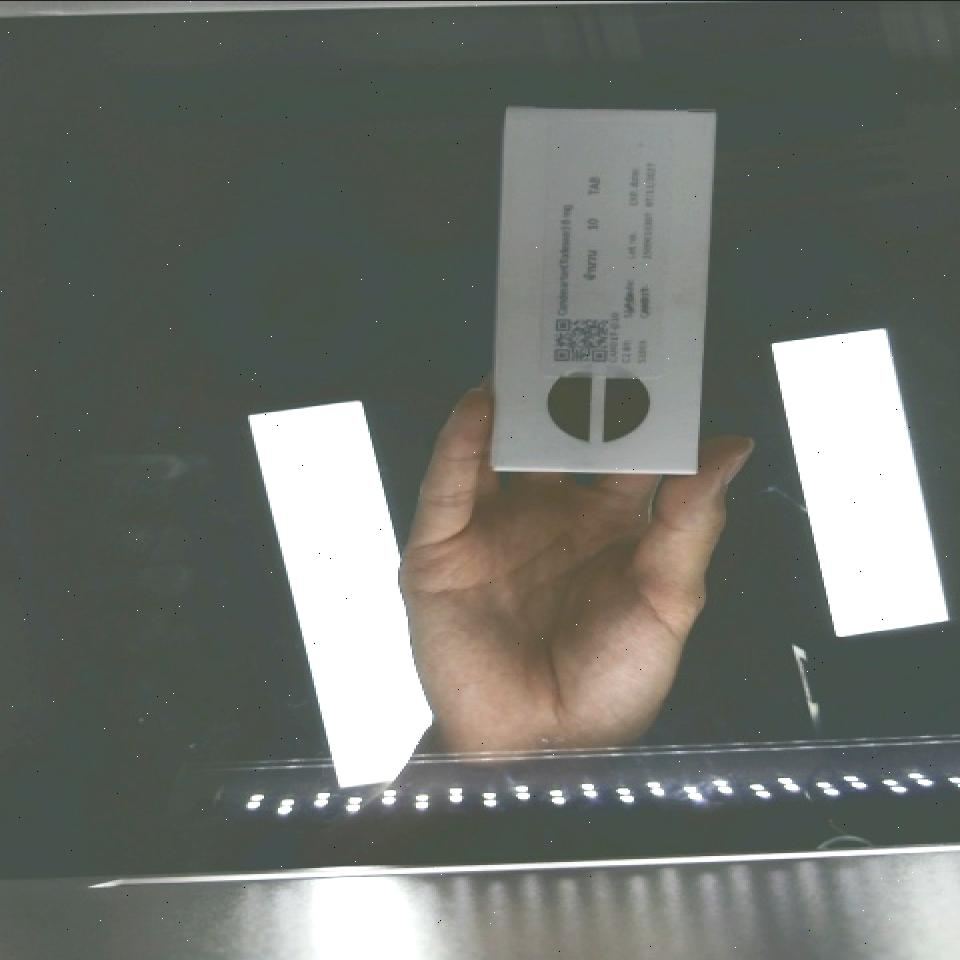medicine_box: (484, 96, 714, 486)
qr_code: (536, 306, 629, 374)
